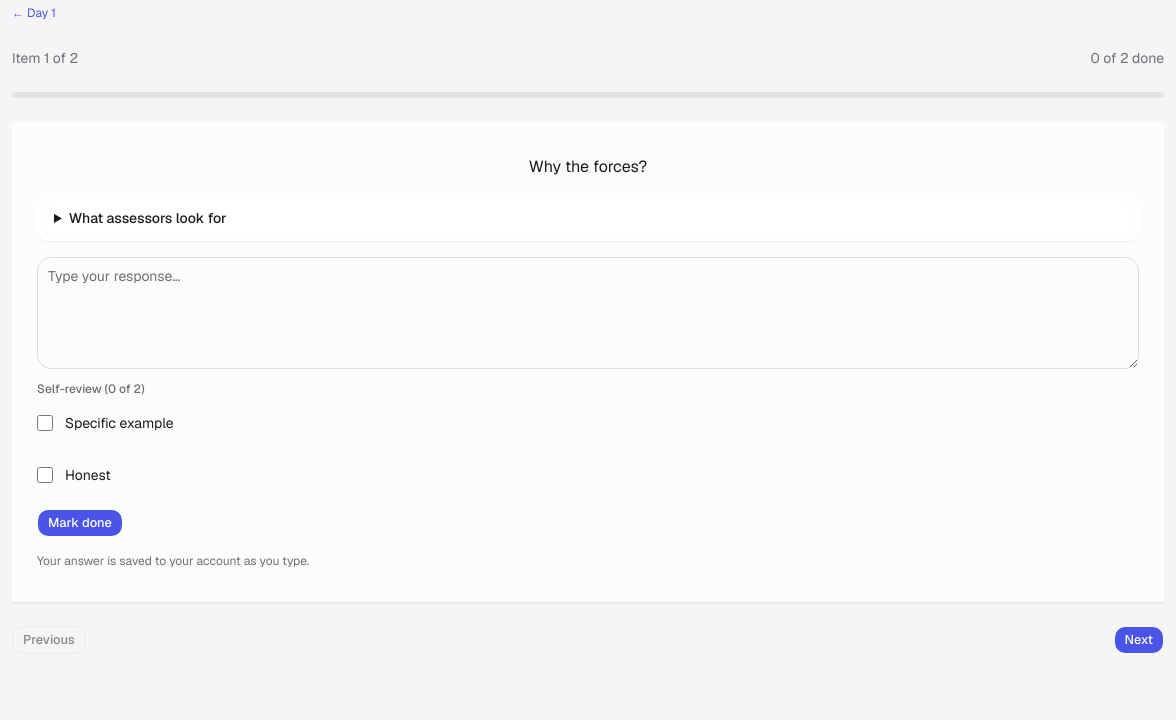
BankPracticeRunner (free-text) › shows a question's guidance and saves self-review ticks
This screenshot has width=1176, height=720.
Expected: the heading "What assessors look for" is shown, [69,209,226,227]
Click the checkbox labelled "Specific example".
click(45, 423)  # box [37,415,53,431]
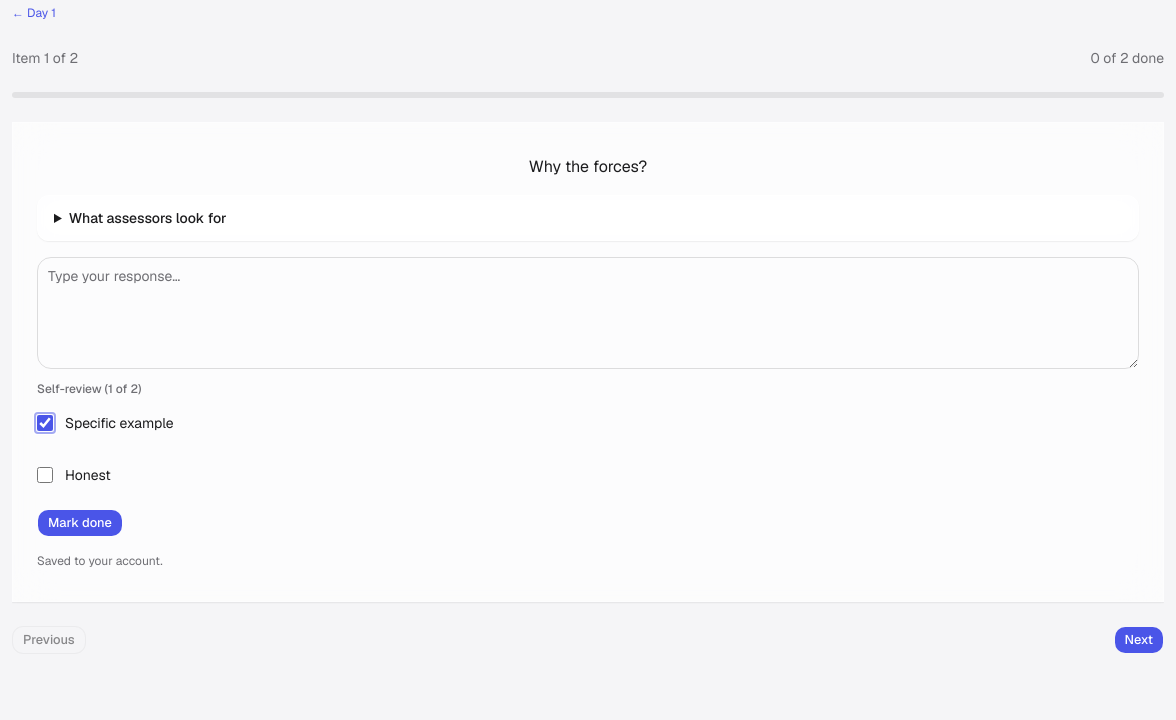
Expected: the text "Self-review (1 of 2)" is shown, [37,381,141,397]
